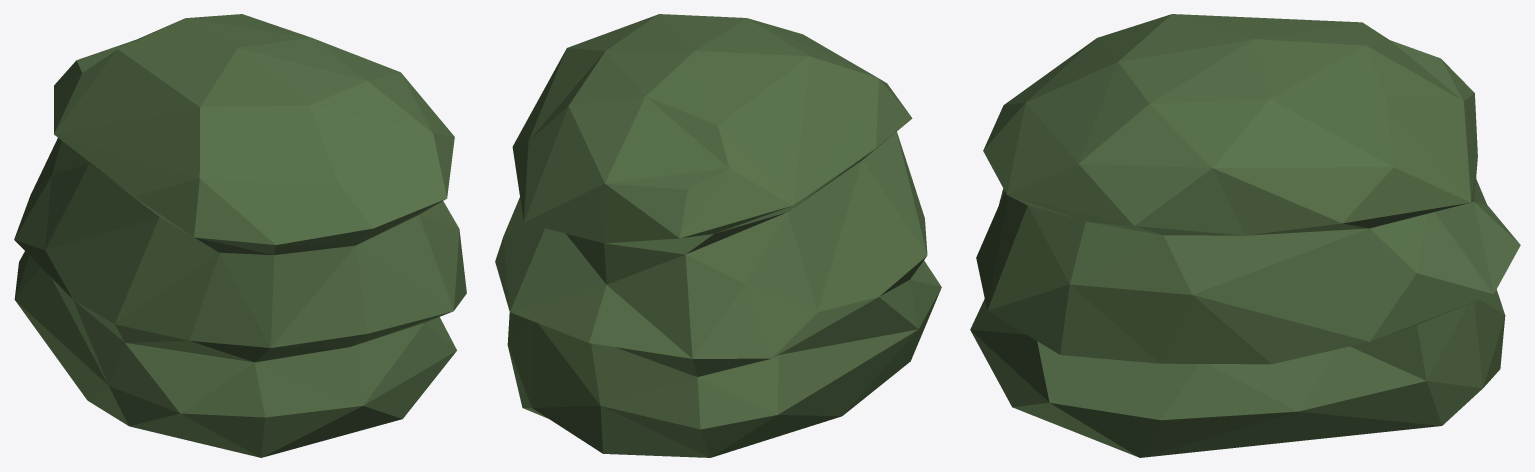
File: Bush_1.lod1.glb
3 views of the same model, side by side, from view 1: azimuth 30°, elevation 25°; view 2: azimuth 150°, elevation 25°; view 3: azimuth 270°, elevation 25° (orthographic). The views are drawn at different scales.
Parts seen in each view (by area): view 1: Bush_1; view 2: Bush_1; view 3: Bush_1.
Boxes of the visible parts, x1,y1,x2,y2 form: Bush_1: (14, 14, 466, 457); Bush_1: (495, 14, 941, 457); Bush_1: (970, 14, 1520, 457).
Size of the model in its own units: 1.33 by 1.23 by 1.69.
